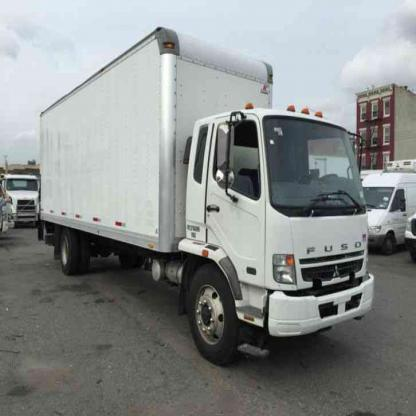truck: (41, 28, 375, 365)
